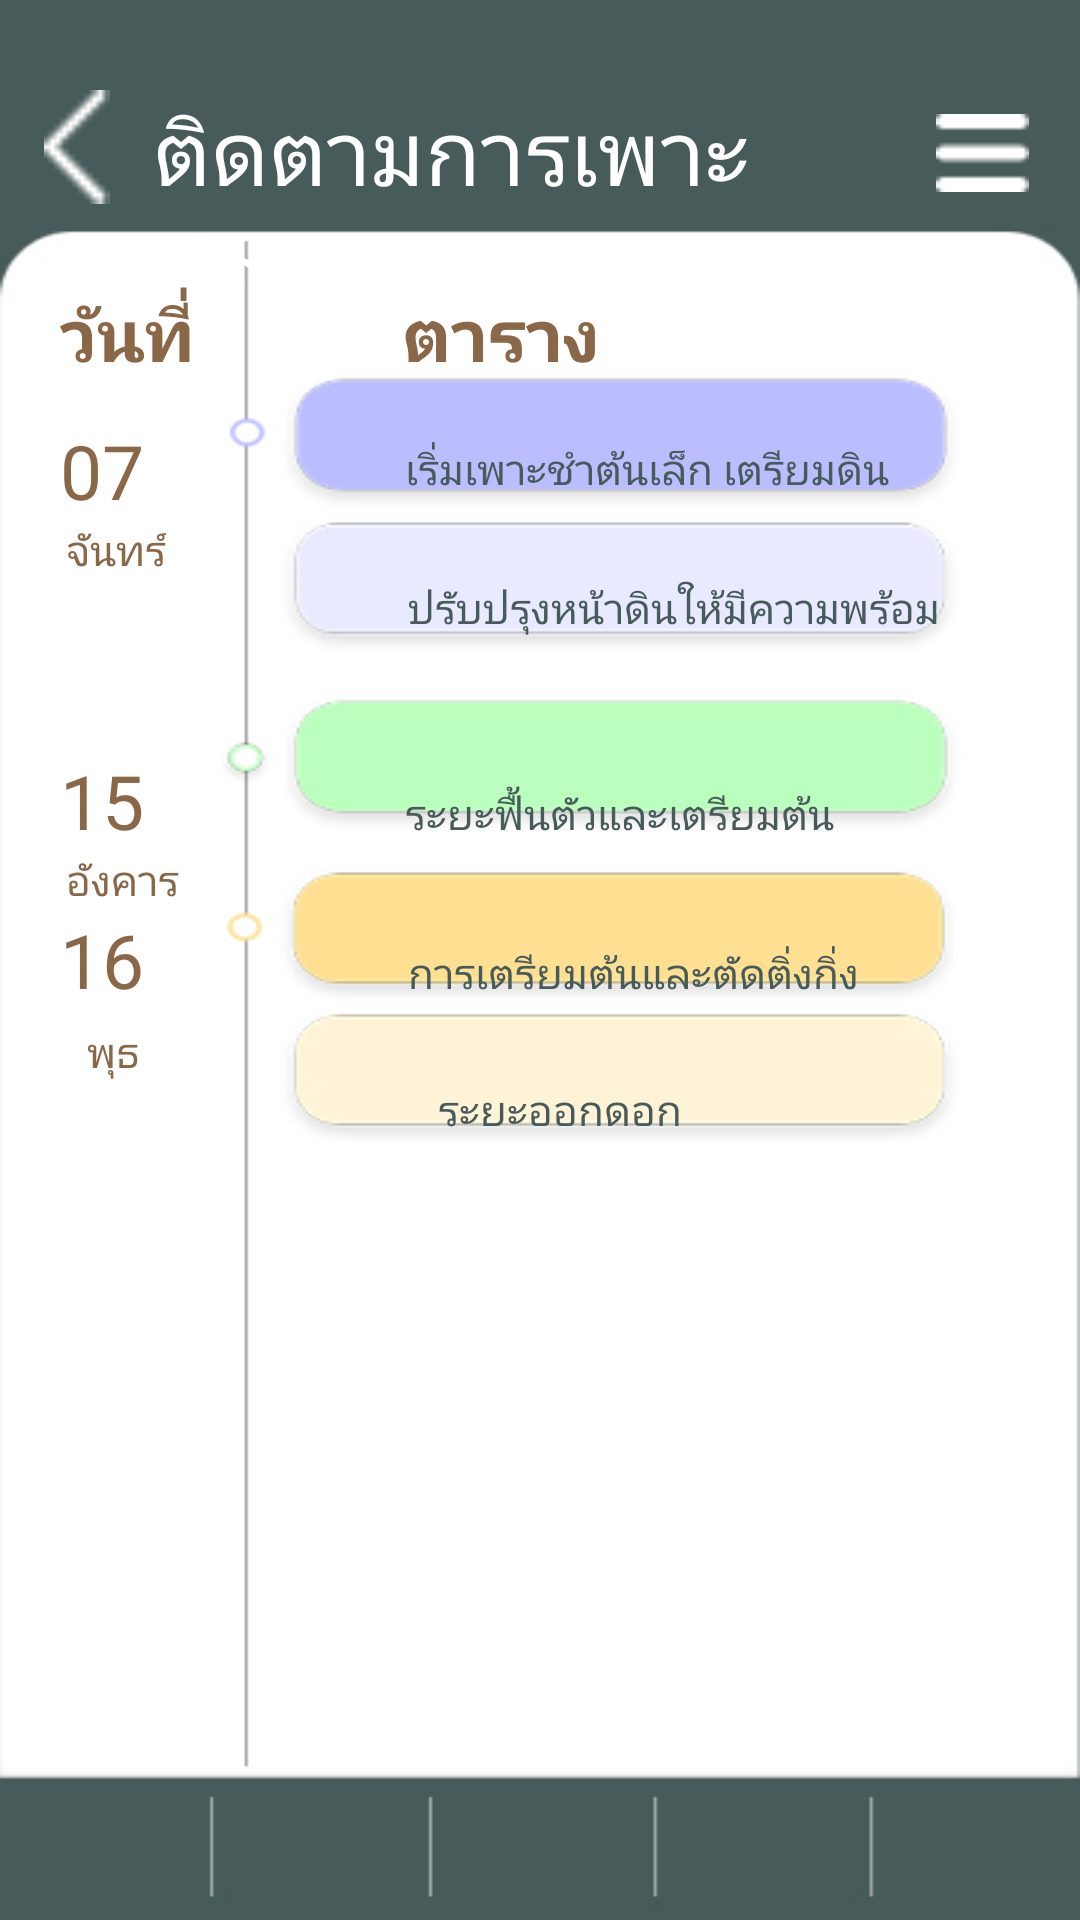

Point at icon controls on the screen. Image size 1080w x 1920h, points as point (x, y).
menusymbol: point (982, 153)
